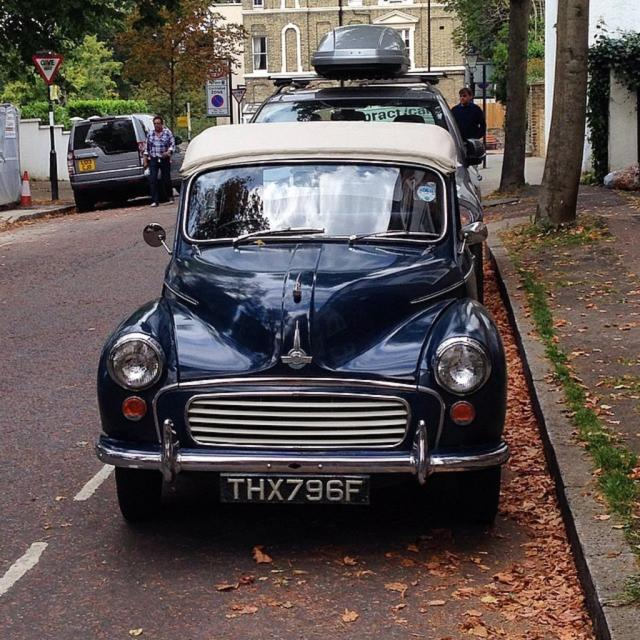car: (98, 95, 503, 540), (244, 59, 487, 164)
